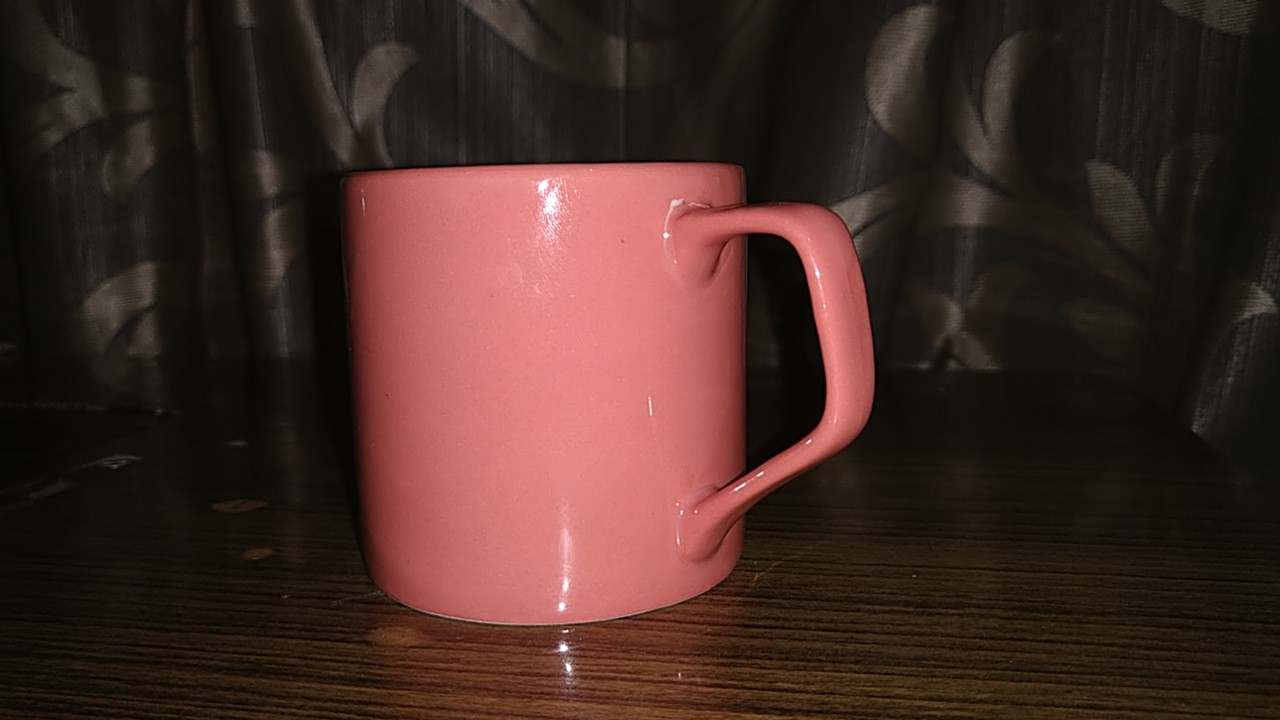cup: (325, 155, 891, 643)
